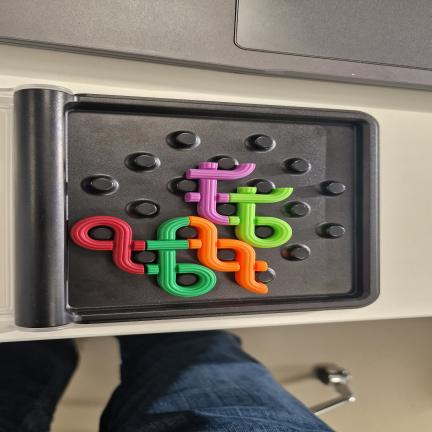D_Green: (146, 217, 216, 296)
H_Purple: (185, 163, 255, 225)
I_Orange: (188, 217, 267, 293)
J_DarkRed: (70, 216, 145, 274)
K_YellowGreen: (229, 187, 292, 248)
board: (4, 85, 379, 331)
hinge: (8, 78, 77, 334)
pin: (247, 179, 275, 194), (89, 227, 113, 240), (91, 178, 113, 191), (135, 203, 157, 216), (135, 155, 156, 168), (176, 226, 197, 239), (176, 133, 197, 145), (135, 251, 156, 263), (177, 274, 198, 286), (256, 270, 275, 283), (255, 136, 274, 148), (291, 160, 310, 172), (326, 182, 345, 194), (177, 180, 196, 192), (291, 247, 310, 259), (218, 158, 236, 170), (327, 225, 345, 237), (256, 226, 274, 238), (218, 249, 236, 261), (217, 204, 236, 215), (291, 204, 309, 215)
